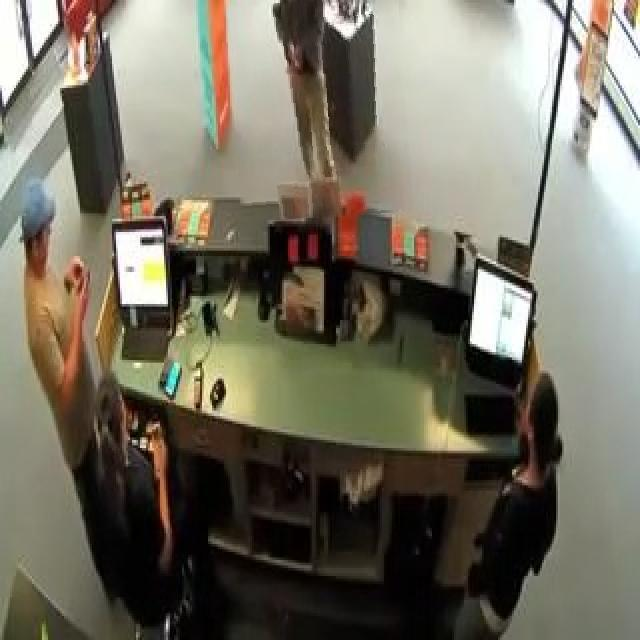Shoplifting: (230, 0, 409, 218)
